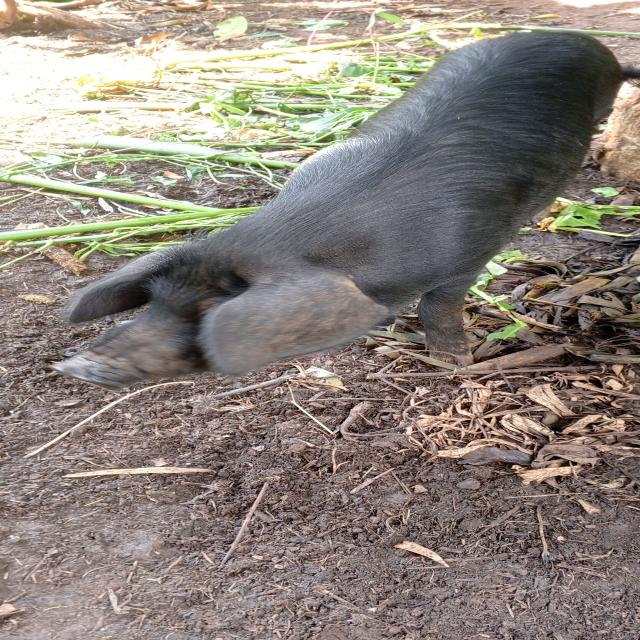pig: (19, 5, 640, 436)
